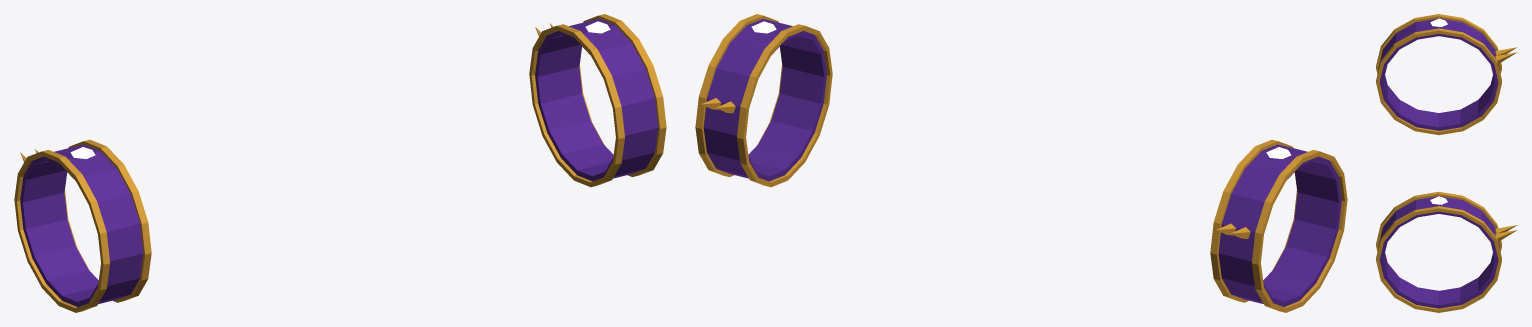
Rendered from armor_guard_arms_epic_orc.glb.
The picture shows the model from 3 angles, left to right: view 1: azimuth 30°, elevation 25°; view 2: azimuth 150°, elevation 25°; view 3: azimuth 270°, elevation 25°; orthographic projection. The views are drawn at different scales.
Visible parts, largest first — view 1: armor_guard_arms_epic_orc__lowerarm_l, armor_guard_arms_epic_orc__lowerarm_r; view 2: armor_guard_arms_epic_orc__lowerarm_l, armor_guard_arms_epic_orc__lowerarm_r; view 3: armor_guard_arms_epic_orc__lowerarm_l, armor_guard_arms_epic_orc__lowerarm_r.
Boxes of the visible parts, x1=… form: armor_guard_arms_epic_orc__lowerarm_l: x1=529, y1=14, x2=666, y2=187; armor_guard_arms_epic_orc__lowerarm_r: x1=14, y1=139, x2=151, y2=312; armor_guard_arms_epic_orc__lowerarm_l: x1=695, y1=14, x2=832, y2=187; armor_guard_arms_epic_orc__lowerarm_r: x1=1210, y1=139, x2=1347, y2=312; armor_guard_arms_epic_orc__lowerarm_l: x1=1376, y1=191, x2=1517, y2=312; armor_guard_arms_epic_orc__lowerarm_r: x1=1376, y1=14, x2=1516, y2=135.
Size of the model in its own units: 119 by 30.91 by 36.66.
